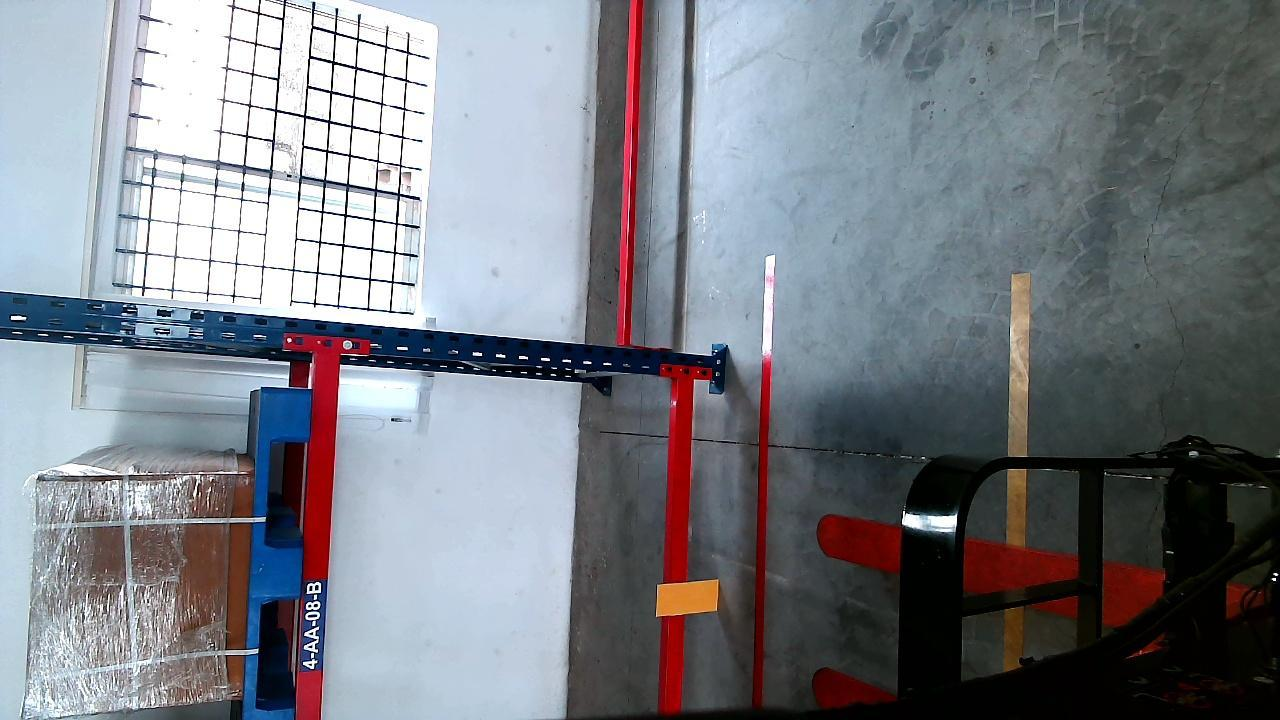red_line: (748, 253, 777, 720)
yellow_line: (1006, 265, 1030, 587)
